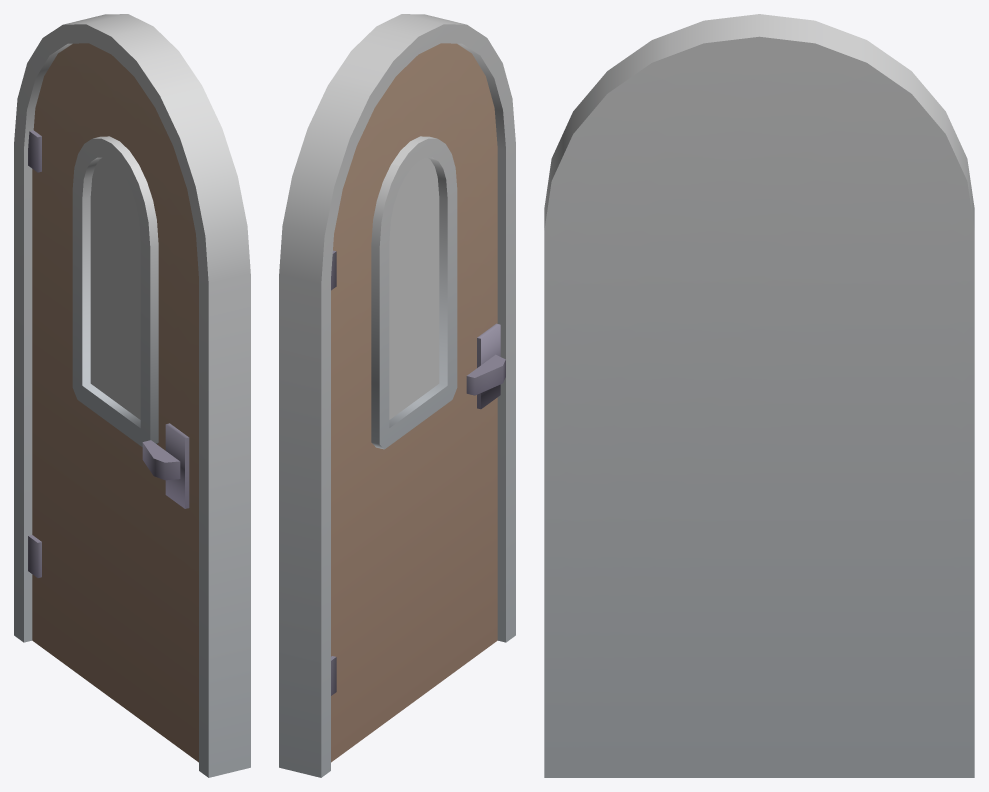
File: door-rounded-small-window (%wall).glb
3 views of the same model, side by side, from view 1: azimuth 30°, elevation 25°; view 2: azimuth 150°, elevation 25°; view 3: azimuth 270°, elevation 25° (orthographic). The views are drawn at different scales.
Visible parts, largest first — view 1: door-rounded-small-window (%wall); view 2: door-rounded-small-window (%wall); view 3: door-rounded-small-window (%wall).
Part boxes in pixels (x1=…): door-rounded-small-window (%wall): x1=14, y1=14, x2=250, y2=777; door-rounded-small-window (%wall): x1=279, y1=14, x2=515, y2=777; door-rounded-small-window (%wall): x1=544, y1=14, x2=974, y2=777.
Size of the model in its own units: 0.1875 by 1.9 by 1.
